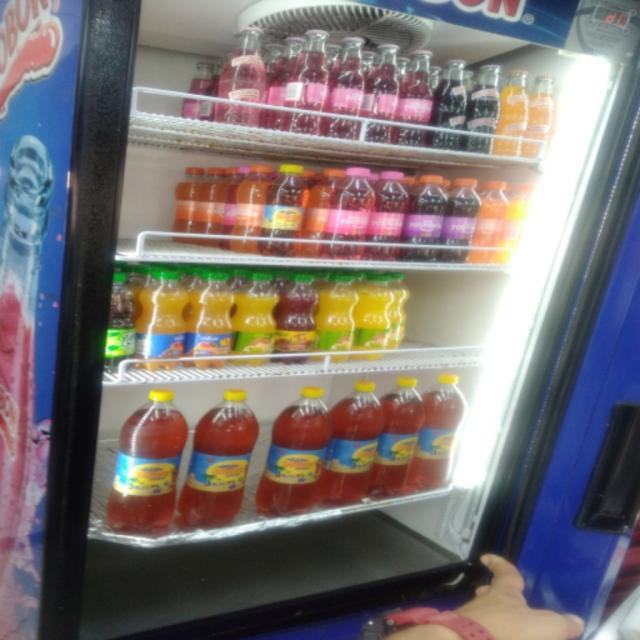Tamarindo: (436, 56, 471, 155), (470, 67, 505, 152)
